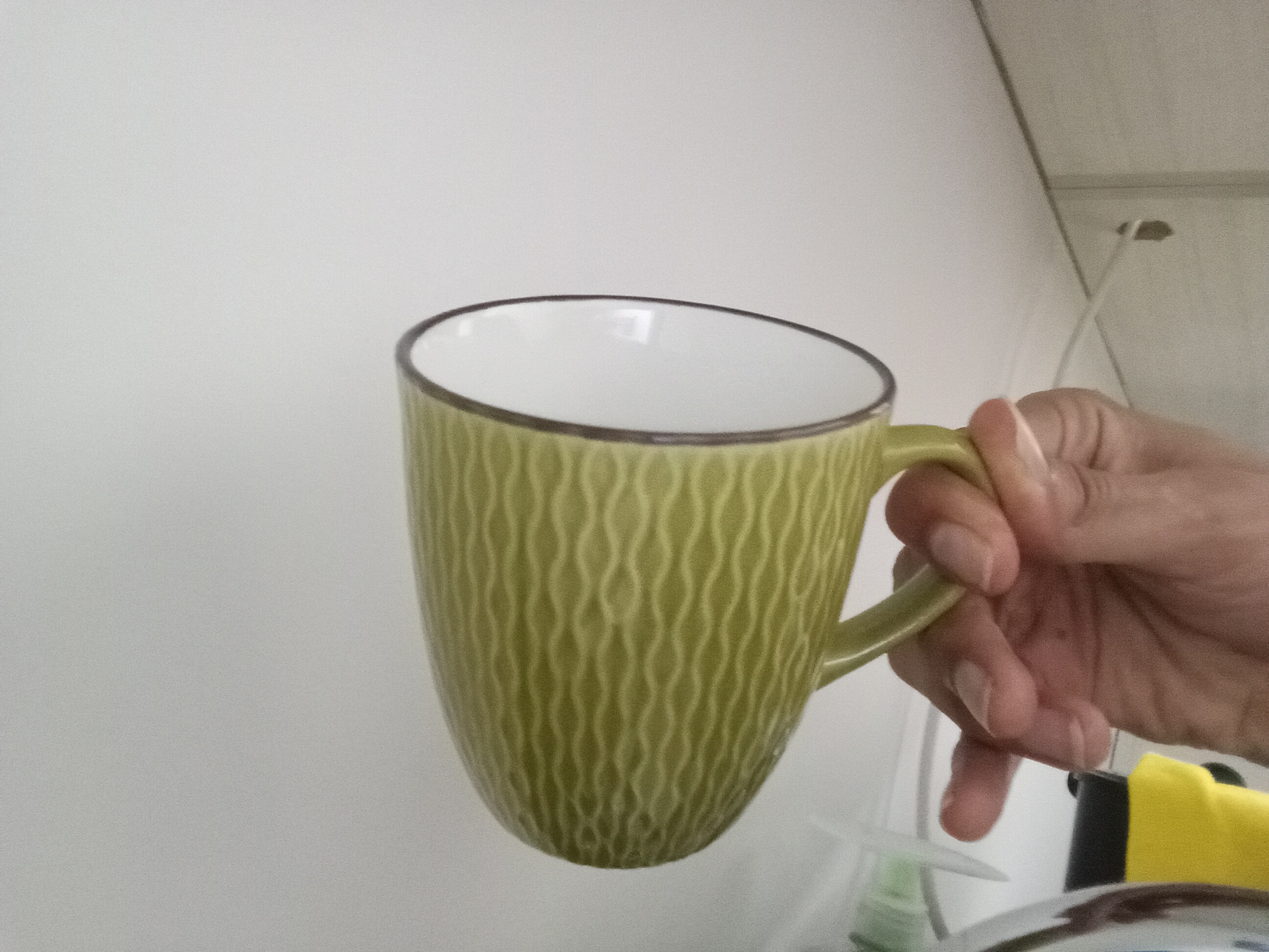Ordinario: (394, 295, 949, 870)
